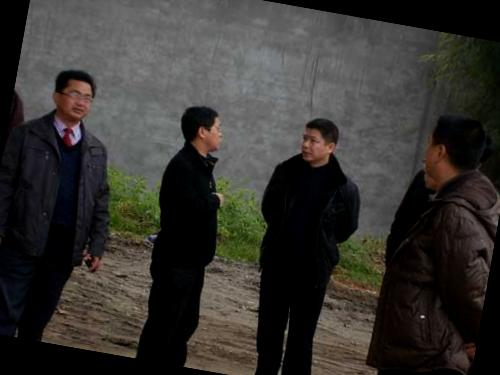no_helmet: (417, 103, 492, 195), (42, 61, 103, 126), (173, 97, 230, 158), (292, 110, 345, 170)
